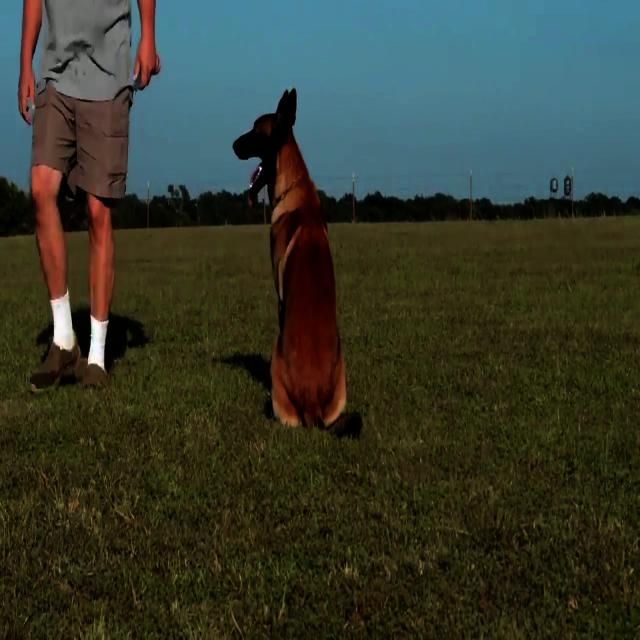Unleashed_Dog: (70, 83, 360, 434)
